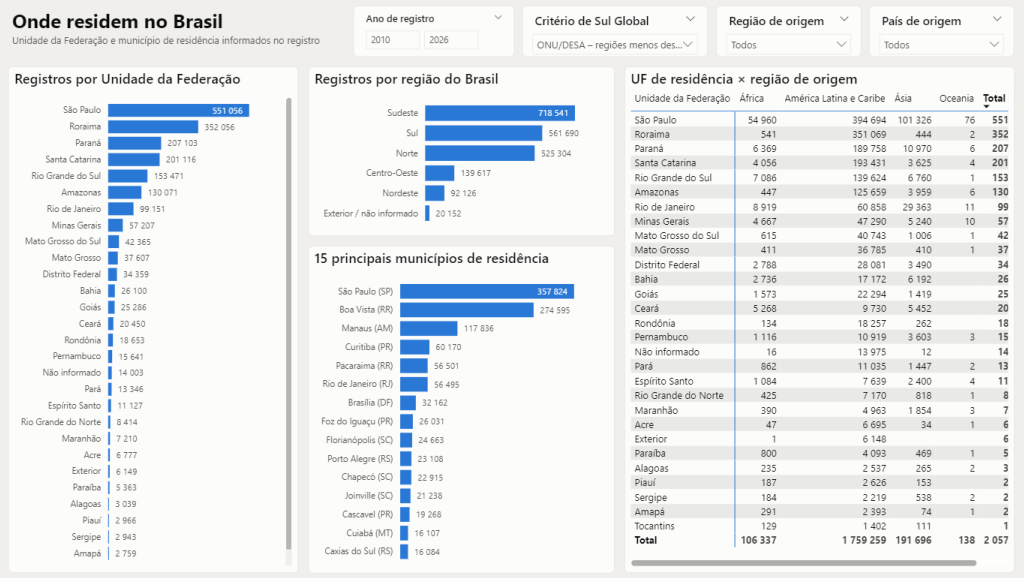

Layout of this report page (visuals, bound fields, positions):
{"tool":"powerbi","page":{"name":"Destinos no Brasil","canvas":[1280,720],"ordinal":4},"visuals":[{"type":"textbox","box":[16,6,418,70],"z":0},{"type":"slicer","fields":{"Values":["Ano.Ano"]},"box":[444,8,200,64],"z":0},{"type":"slicer","fields":{"Values":["Critério Sul Global.Critério"]},"box":[654,8,230,64],"z":0},{"type":"slicer","fields":{"Values":["País.Região"]},"box":[894,8,180,64],"z":0},{"type":"slicer","fields":{"Values":["País.País"]},"box":[1084,8,180,64],"z":0},{"type":"clusteredBarChart","title":"Registros por Unidade da Federação","fields":{"Category":["UF.Unidade da Federação"],"Y":["Medidas.Registros Sul Global"]},"box":[16,84,360,628],"z":0},{"type":"clusteredBarChart","title":"Registros por região do Brasil","fields":{"Category":["UF.Região do Brasil"],"Y":["Medidas.Registros Sul Global"]},"box":[388,84,380,210],"z":0},{"type":"pivotTable","title":"UF de residência × região de origem","fields":{"Rows":["UF.Unidade da Federação"],"Columns":["País.Região"],"Values":["Medidas.Registros Sul Global"]},"box":[780,84,484,628],"z":0},{"type":"clusteredBarChart","title":"15 principais municípios de residência","fields":{"Category":["Registros.Município (UF)"],"Y":["Medidas.Sul Global – top 15 municípios"]},"box":[388,306,380,406],"z":0}]}

Visuals, with their boxes in screenshot pixels (x1, y1, x2, y2), scaled from the page's 1280x720 canvas onto the 1024x578 screenshot:
textbox: crop(13, 5, 347, 61)
slicer - Ano.Ano: crop(355, 6, 515, 58)
slicer - Critério Sul Global.Critério: crop(523, 6, 707, 58)
slicer - País.Região: crop(715, 6, 859, 58)
slicer - País.País: crop(867, 6, 1011, 58)
"Registros por Unidade da Federação" clusteredBarChart: crop(13, 67, 301, 572)
"Registros por região do Brasil" clusteredBarChart: crop(310, 67, 614, 236)
"UF de residência × região de origem" pivotTable: crop(624, 67, 1011, 572)
"15 principais municípios de residência" clusteredBarChart: crop(310, 246, 614, 572)
